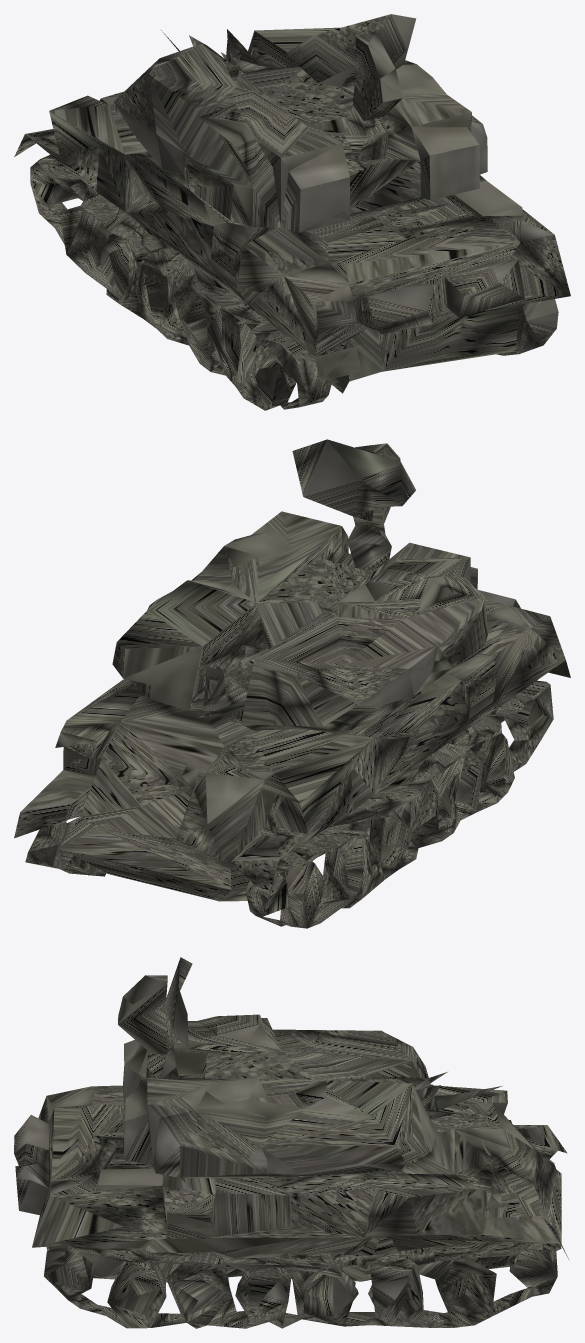
Rendered from zsu_23_4_shilka_14k.glb.
The picture shows the model from 3 angles, top to bottom: view 1: azimuth 30°, elevation 25°; view 2: azimuth 150°, elevation 25°; view 3: azimuth 270°, elevation 25°; orthographic projection. The views are drawn at different scales.
Parts seen in each view (by area): view 1: output_unwrapped; view 2: output_unwrapped; view 3: output_unwrapped.
Boxes of the visible parts, x1=… form: output_unwrapped: x1=14, y1=14, x2=570, y2=410; output_unwrapped: x1=14, y1=439, x2=570, y2=928; output_unwrapped: x1=14, y1=957, x2=569, y2=1328.
Bounding box in the file's own units: 3.17 × 3.88 × 6.47.
Materials: 1 (1 with a texture image).
